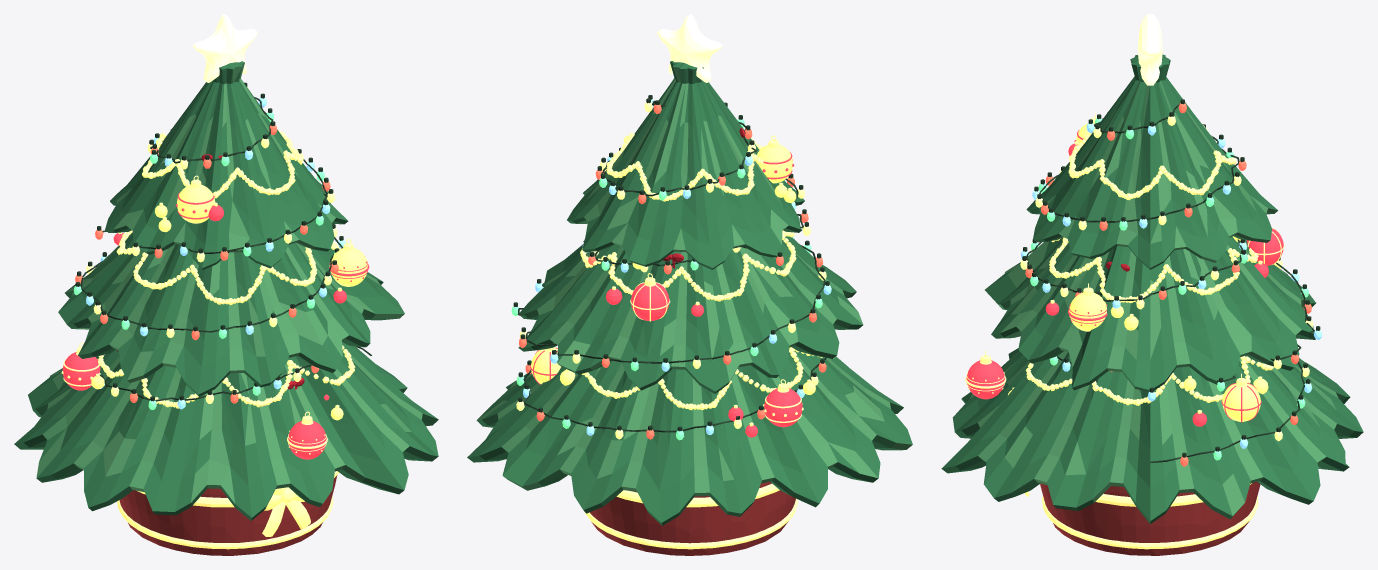
Rendered from Arbol.glb.
The picture shows the model from 3 angles, left to right: view 1: azimuth 30°, elevation 25°; view 2: azimuth 150°, elevation 25°; view 3: azimuth 270°, elevation 25°; orthographic projection.
Visible parts, largest first — view 1: Nivel1, Nivel2, Nivel3, Maceta, Guirnalda, Estrella, Esfera_1, Esfera_6, Esfera_4, Esfera_3, Esfera_6_Racimo; view 2: Nivel1, Nivel2, Nivel3, Maceta, Guirnalda, Estrella, Esfera_5, Esfera_3, Esfera_6, Esfera_2, Esfera_5_Racimo; view 3: Nivel1, Nivel2, Nivel3, Maceta, Guirnalda, Estrella, Esfera_2, Esfera_1, Esfera_4, Esfera_5, Esfera_4_Racimo, Esfera_2_Racimo.
Part boxes in pixels (bbox=[...]): Nivel1: bbox=[14, 342, 438, 520]; Nivel2: bbox=[58, 230, 404, 396]; Nivel3: bbox=[105, 61, 348, 269]; Maceta: bbox=[117, 471, 339, 555]; Guirnalda: bbox=[73, 82, 371, 409]; Estrella: bbox=[192, 14, 257, 82]; Esfera_1: bbox=[287, 421, 327, 459]; Esfera_6: bbox=[175, 185, 215, 223]; Esfera_4: bbox=[329, 248, 369, 286]; Esfera_3: bbox=[61, 352, 100, 390]; Esfera_6_Racimo: bbox=[155, 154, 223, 232]; Nivel1: bbox=[467, 347, 912, 525]; Nivel2: bbox=[518, 230, 863, 393]; Nivel3: bbox=[567, 61, 804, 269]; Maceta: bbox=[584, 482, 797, 555]; Guirnalda: bbox=[511, 95, 835, 440]; Estrella: bbox=[657, 14, 722, 82]; Esfera_5: bbox=[630, 282, 670, 321]; Esfera_3: bbox=[763, 388, 803, 427]; Esfera_6: bbox=[757, 144, 794, 183]; Esfera_2: bbox=[530, 347, 560, 384]; Esfera_5_Racimo: bbox=[605, 253, 703, 316]; Nivel1: bbox=[941, 348, 1363, 524]; Nivel2: bbox=[985, 236, 1315, 392]; Nivel3: bbox=[1026, 54, 1277, 269]; Maceta: bbox=[1025, 482, 1260, 555]; Guirnalda: bbox=[1020, 99, 1322, 466]; Estrella: bbox=[1137, 14, 1162, 85]; Esfera_2: bbox=[1221, 383, 1261, 422]; Esfera_1: bbox=[965, 360, 1006, 399]; Esfera_4: bbox=[1068, 292, 1107, 331]; Esfera_5: bbox=[1246, 227, 1284, 265]; Esfera_4_Racimo: bbox=[1045, 261, 1138, 330]; Esfera_2_Racimo: bbox=[1183, 375, 1268, 426].
Bounding box in the file's own units: 5 × 6.47 × 4.92.
